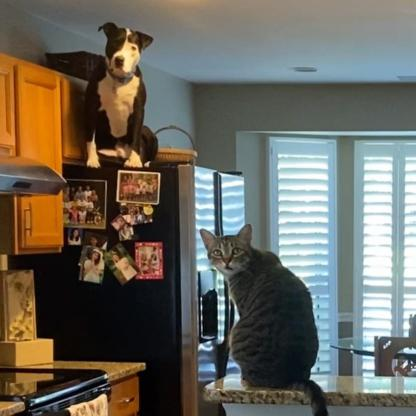cat: (194, 224, 324, 393)
dog: (84, 21, 161, 170)
